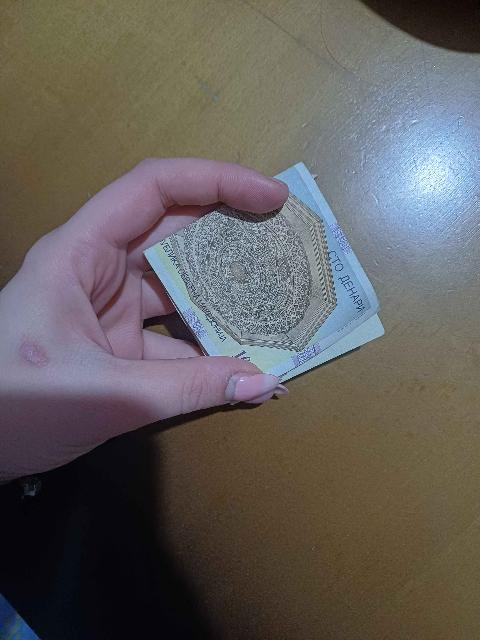100_note: (145, 164, 378, 376)
